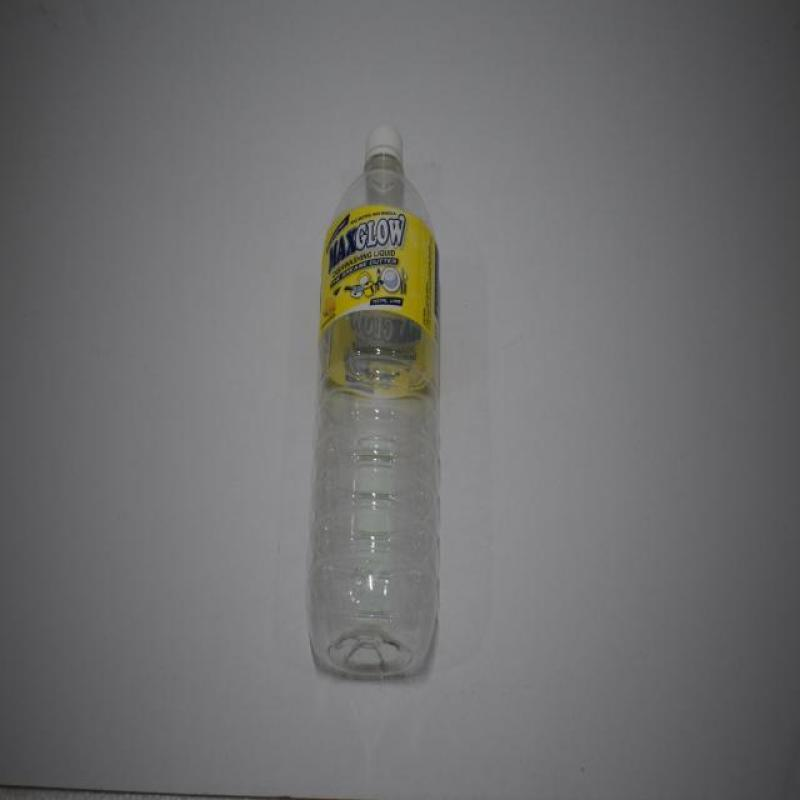botella: (308, 123, 442, 678)
